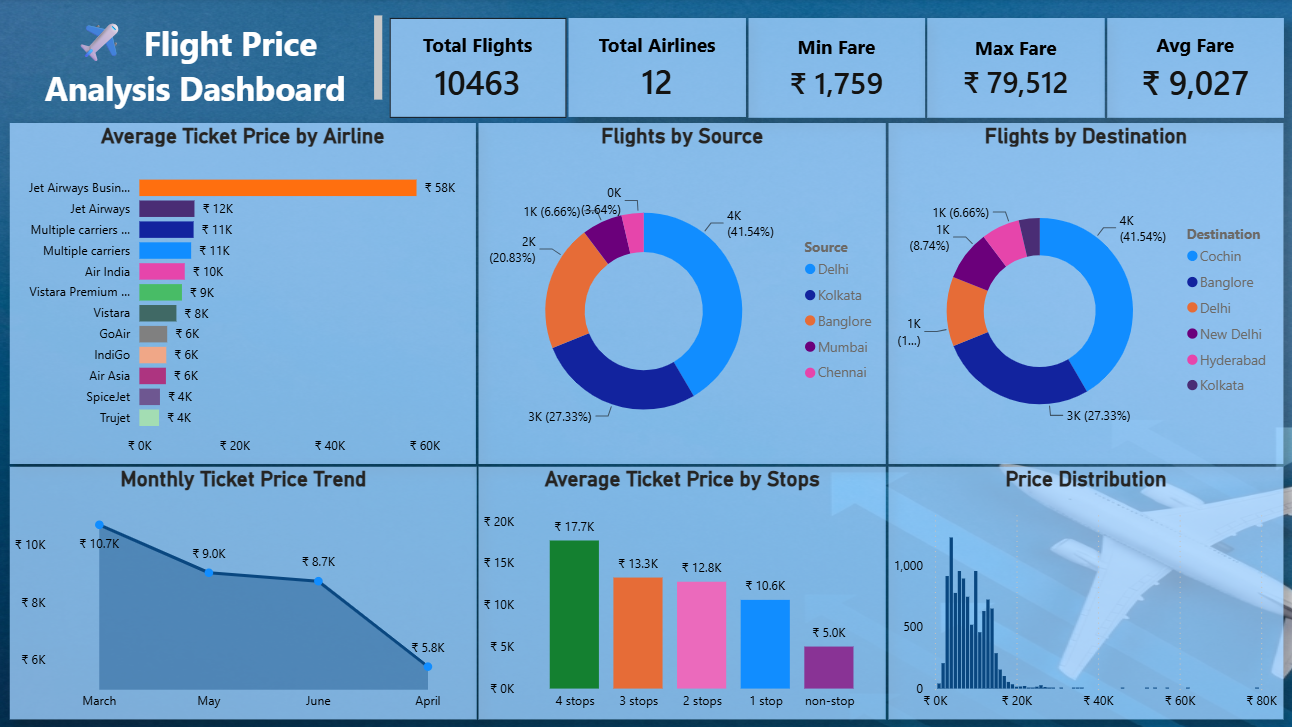

The page's visual inventory and layout, read from the dashboard file:
{"tool":"powerbi","page":{"name":"Executive Overview","canvas":[1280,720],"ordinal":0},"visuals":[{"type":"cardVisual","title":"Total Flight","fields":{"Data":["Clean_Flight_Data.Total Flights"]},"box":[385.2,19.6,172.4,97.8],"z":0},{"type":"cardVisual","fields":{"Data":["Clean_Flight_Data.Total Airlines"]},"box":[560.1,19.6,173.6,96.6],"z":1000},{"type":"cardVisual","fields":{"Data":["Clean_Flight_Data.Minimum Price"]},"box":[736.1,19.6,172.4,97.8],"z":2000},{"type":"cardVisual","fields":{"Data":["Clean_Flight_Data.Maximum Price"]},"box":[911,19.6,173.6,97.8],"z":3000},{"type":"cardVisual","fields":{"Data":["Clean_Flight_Data.Average Price"]},"box":[1087.1,19.6,172.4,97.8],"z":4000},{"type":"clusteredBarChart","title":"Average Ticket Price by Airline","fields":{"Category":["Clean_Flight_Data.Airline"],"Y":["Clean_Flight_Data.Average Price"]},"box":[13.5,122.3,456.1,333.8],"z":5000},{"type":"lineChart","title":"Monthly Ticket Price Trend","fields":{"Category":["Clean_Flight_Data.Journey_Month"],"Y":["Clean_Flight_Data.Average Price"]},"box":[13.5,458.3,457.1,247.1],"z":6000},{"type":"donutChart","title":"Flights by Source","fields":{"Category":["Clean_Flight_Data.Source"],"Y":["Clean_Flight_Data.Total Flights"]},"box":[472,122.3,398.6,333.8],"z":7000},{"type":"donutChart","title":"Flights by Destination","fields":{"Y":["Clean_Flight_Data.Total Flights"],"Category":["Clean_Flight_Data.Destination"]},"box":[873.1,122.3,386.4,333.8],"z":8000},{"type":"clusteredColumnChart","title":"Average Ticket Price by Stops","fields":{"Category":["Clean_Flight_Data.Total_Stops"],"Y":["Clean_Flight_Data.Average Price"]},"box":[472.6,458.5,398.6,247],"z":9000},{"type":"clusteredColumnChart","title":"Price Distribution","fields":{"Category":["Clean_Flight_Data.Bins"],"Y":["CountNonNull(Clean_Flight_Data.Price)"]},"box":[873.7,458.5,386.4,247],"z":10000},{"type":"textbox","box":[14.7,12.2,368.1,105.2],"z":11000}]}

Visuals, with their boxes in screenshot pixels (x1, y1, x2, y2), scaled from the page's 1280x720 canvas onto the 1292x727 screenshot:
"Total Flight" cardVisual: 389:20:563:119
cardVisual - Clean_Flight_Data.Total Airlines: 565:20:741:117
cardVisual - Clean_Flight_Data.Minimum Price: 743:20:917:119
cardVisual - Clean_Flight_Data.Maximum Price: 920:20:1095:119
cardVisual - Clean_Flight_Data.Average Price: 1097:20:1271:119
"Average Ticket Price by Airline" clusteredBarChart: 14:123:474:461
"Monthly Ticket Price Trend" lineChart: 14:463:475:712
"Flights by Source" donutChart: 476:123:879:461
"Flights by Destination" donutChart: 881:123:1271:461
"Average Ticket Price by Stops" clusteredColumnChart: 477:463:879:712
"Price Distribution" clusteredColumnChart: 882:463:1272:712
textbox: 15:12:386:119
